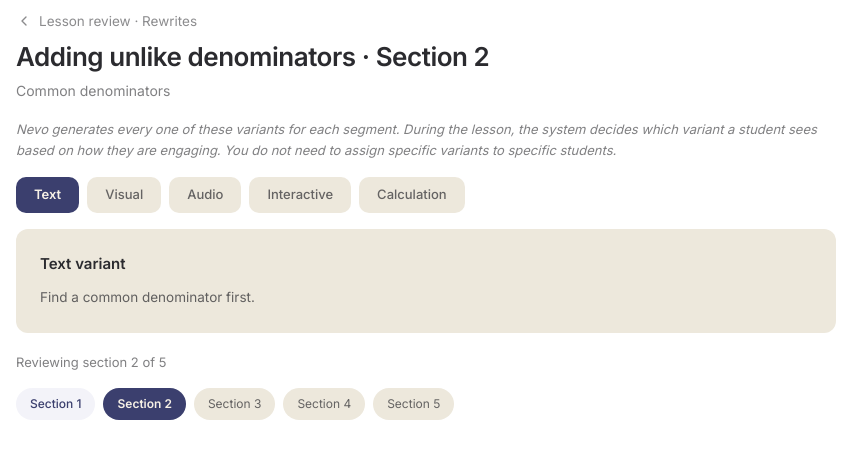
Test: the picture's sign-off line › says nobody has signed it off while the section waits
The width and height of the screenshot is (853, 468).
Step 1. Click the tab "Visual" → point(124, 195), box top-left (87, 177), bottom-right (161, 213)
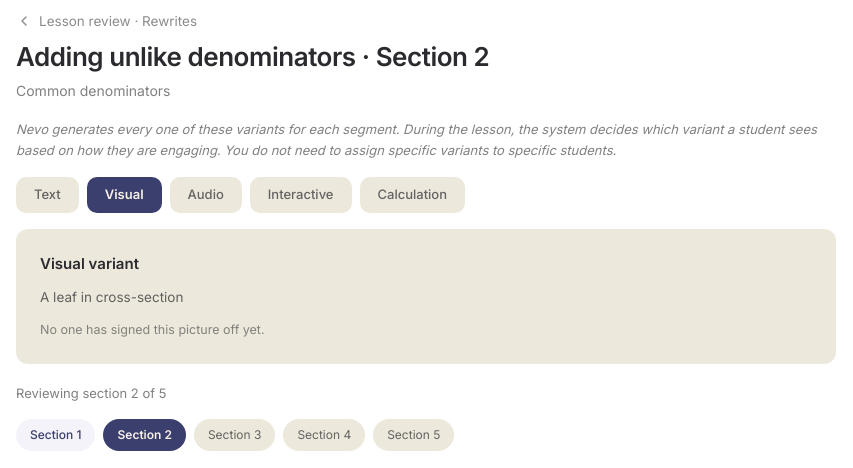
expect the text "No one has signed this picture off yet." is shown: met, box top-left (40, 322), bottom-right (264, 337)
